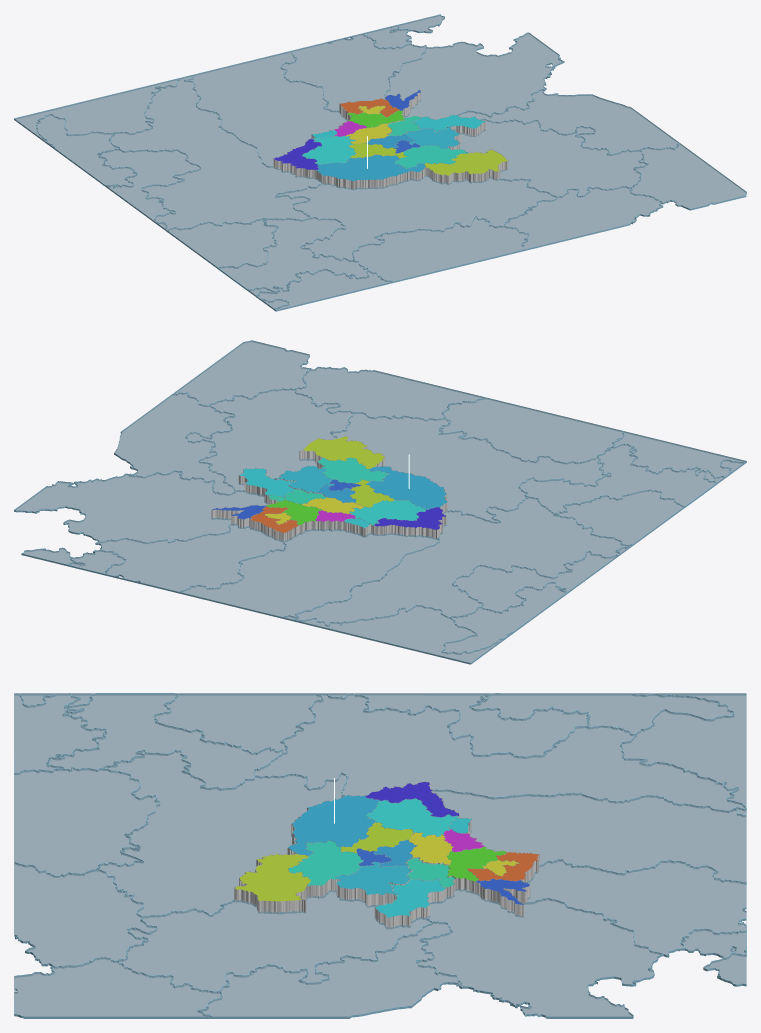
Rendered from map11.gltf.
3 views of the same model, one above another, from view 1: azimuth 30°, elevation 25°; view 2: azimuth 150°, elevation 25°; view 3: azimuth 270°, elevation 25° (orthographic). The views are drawn at different scales.
Parts seen in each view (by area): view 1: 底 (×2), 底边界, 河南边界.1, 南阳市, 信阳市, 洛阳市, 驻马店市, 周口市, 商丘市, 三门峡, 新乡市, 安阳市 (+2 smaller); view 2: 底 (×2), 底边界, 河南边界.1, 南阳市, 信阳市, 洛阳市, 驻马店市, 周口市, 商丘市, 三门峡, 新乡市, 平顶山市 (+2 smaller); view 3: 底 (×2), 底边界, 河南边界.1, 南阳市, 信阳市, 洛阳市, 驻马店市, 周口市, 商丘市, 三门峡, 新乡市, 平顶山市 (+6 smaller).
Boxes of the visible parts, left/top/right/bottom form: 底 (×2): left=15, top=15, right=745, bottom=309; 底边界: left=14, top=14, right=746, bottom=311; 河南边界.1: left=273, top=89, right=508, bottom=189; 南阳市: left=316, top=154, right=425, bottom=180; 信阳市: left=424, top=148, right=507, bottom=175; 洛阳市: left=302, top=136, right=356, bottom=164; 驻马店市: left=395, top=145, right=467, bottom=168; 周口市: left=403, top=126, right=460, bottom=148; 商丘市: left=410, top=115, right=485, bottom=132; 三门峡: left=273, top=138, right=321, bottom=169; 新乡市: left=347, top=110, right=404, bottom=127; 安阳市: left=340, top=98, right=399, bottom=116; 底 (×2): left=15, top=341, right=745, bottom=662; 底边界: left=14, top=340, right=746, bottom=664; 河南边界.1: left=211, top=436, right=448, bottom=541; 南阳市: left=366, top=466, right=447, bottom=509; 信阳市: left=303, top=436, right=384, bottom=468; 洛阳市: left=349, top=499, right=425, bottom=525; 驻马店市: left=317, top=457, right=388, bottom=483; 周口市: left=274, top=466, right=334, bottom=492; 商丘市: left=239, top=468, right=294, bottom=497; 三门峡: left=374, top=507, right=445, bottom=529; 新乡市: left=266, top=500, right=321, bottom=525; 平顶山市: left=350, top=479, right=394, bottom=507; 底 (×2): left=14, top=694, right=746, bottom=1016; 底边界: left=14, top=693, right=746, bottom=1018; 河南边界.1: left=234, top=781, right=539, bottom=928; 南阳市: left=288, top=795, right=380, bottom=855; 信阳市: left=235, top=854, right=310, bottom=901; 洛阳市: left=366, top=798, right=458, bottom=837; 驻马店市: left=288, top=840, right=363, bottom=885; 周口市: left=335, top=862, right=412, bottom=895; 商丘市: left=375, top=878, right=445, bottom=917; 三门峡: left=365, top=782, right=458, bottom=817; 新乡市: left=447, top=847, right=506, bottom=881; 平顶山市: left=341, top=822, right=413, bottom=852.
Bounding box in the file's own units: 55.31 × 4.6 × 52.95.
